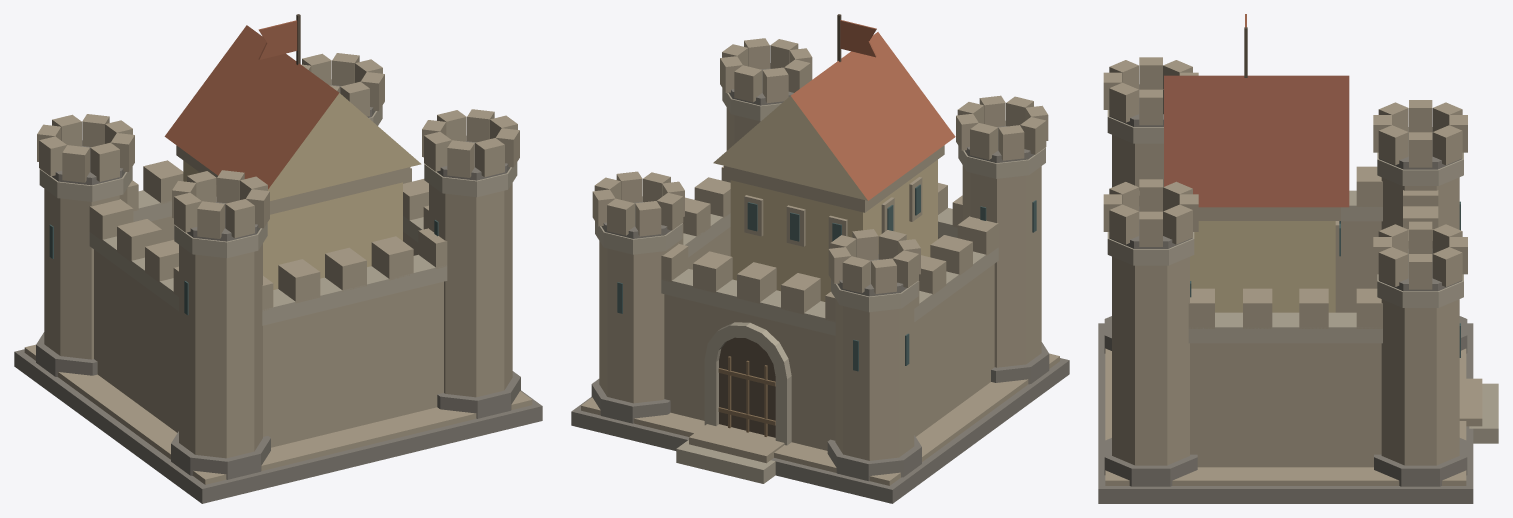
File: Building_Castle.fbx
3 views of the same model, side by side, from view 1: azimuth 30°, elevation 25°; view 2: azimuth 150°, elevation 25°; view 3: azimuth 270°, elevation 25° (orthographic). The views are drawn at different scales.
Parts seen in each view (by area): view 1: Building_Castle; view 2: Building_Castle; view 3: Building_Castle.
Boxes of the visible parts, x1=… form: Building_Castle: x1=14, y1=14, x2=542, y2=503; Building_Castle: x1=571, y1=14, x2=1069, y2=503; Building_Castle: x1=1098, y1=14, x2=1498, y2=503.
Bounding box in the file's own units: 3.35 × 3.7 × 3.42.
